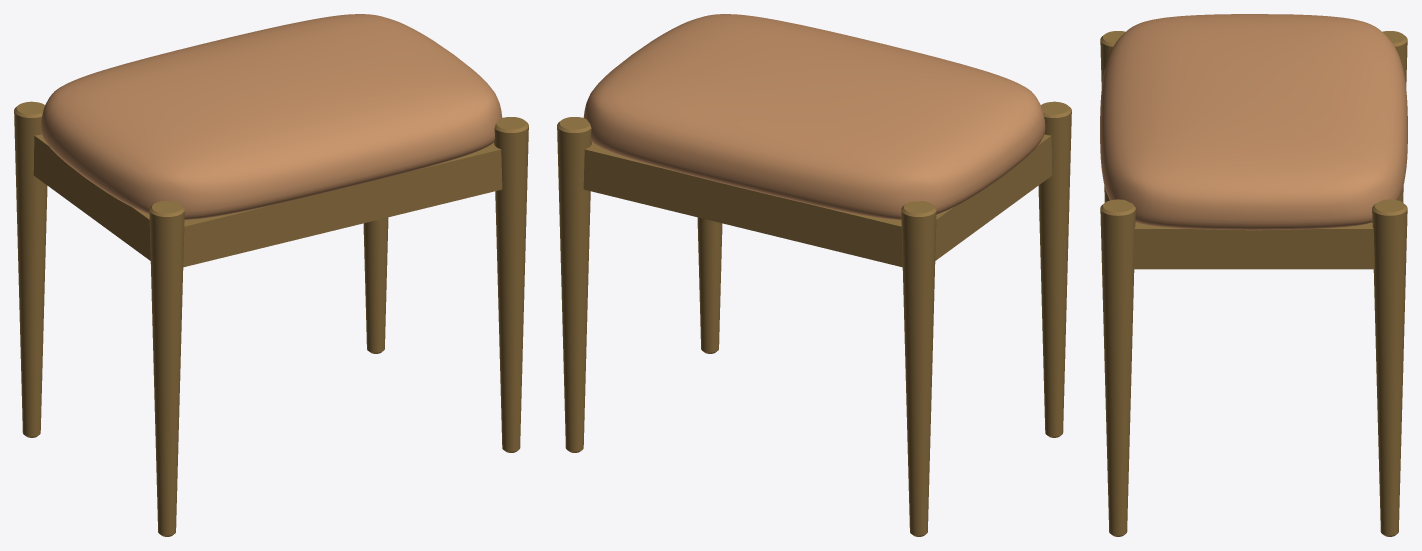
Rendered from 648_スツール.glb.
3 views of the same model, side by side, from view 1: azimuth 30°, elevation 25°; view 2: azimuth 150°, elevation 25°; view 3: azimuth 270°, elevation 25° (orthographic).
Visible parts, largest first — view 1: Body6, Body2; view 2: Body6, Body2; view 3: Body6, Body2.
Part boxes in pixels (x1=…): Body6: x1=40, y1=14, x2=502, y2=219; Body2: x1=14, y1=101, x2=528, y2=536; Body6: x1=583, y1=14, x2=1045, y2=219; Body2: x1=557, y1=101, x2=1071, y2=536; Body6: x1=1100, y1=14, x2=1407, y2=230; Body2: x1=1100, y1=31, x2=1407, y2=536.
Bounding box in the file's own units: 0.4929 × 0.4527 × 0.3441.
